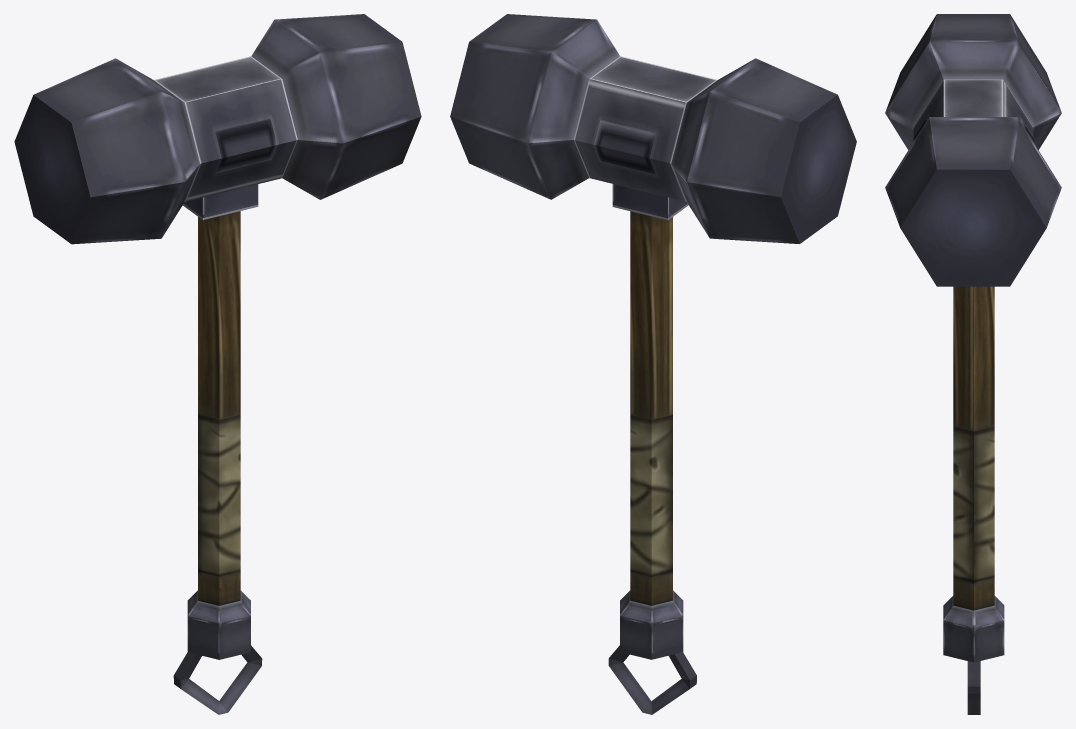
Rendered from hammer_lvl_03.fbx.
3 renders of one model, left to right at view 1: azimuth 30°, elevation 25°; view 2: azimuth 150°, elevation 25°; view 3: azimuth 270°, elevation 25°, orthographic. The views are drawn at different scales.
Visible parts, largest first — view 1: hammer_lvl_03; view 2: hammer_lvl_03; view 3: hammer_lvl_03.
Part boxes in pixels (x1,y1,x2,y2): hammer_lvl_03: (14,14,421,714); hammer_lvl_03: (450,14,856,714); hammer_lvl_03: (885,14,1061,714).
Bounding box in the file's own units: 4.02 × 7.61 × 1.93.
